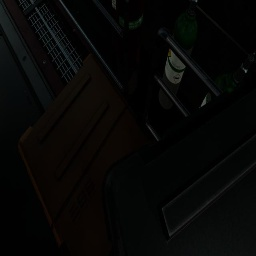0: (159, 0, 198, 109), (199, 52, 255, 108)
NitrogenTank ,: (116, 0, 145, 95), (110, 0, 117, 52)
